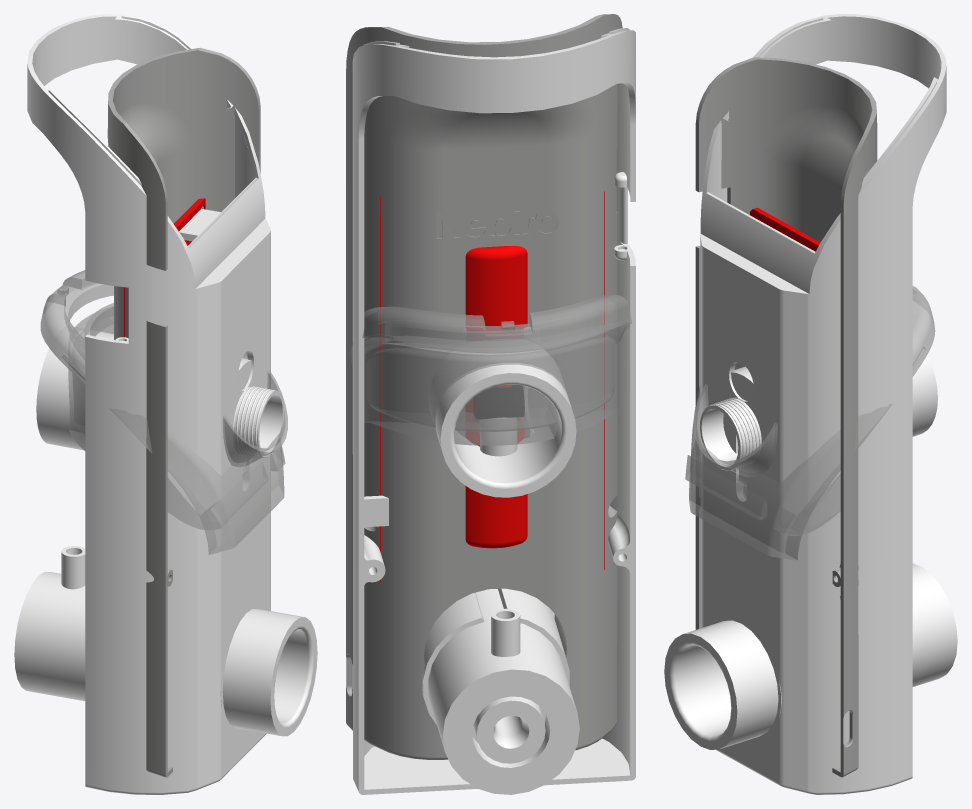
The model's file is NEBIRO.glb.
3 renders of one model, left to right at view 1: azimuth 30°, elevation 25°; view 2: azimuth 150°, elevation 25°; view 3: azimuth 270°, elevation 25°, orthographic. The views are drawn at different scales.
Visible parts, largest first — view 1: face body, back face side for hold, glass mesh cover with ring mask (2) (1), youtuber spirometer modified inlet (1), drug mesh (1); view 2: back face side for hold, face body, drug mesh (1), youtuber spirometer modified inlet (1), glass mesh cover with ring mask (2) (1), battery, pressure sensor, v8 v8 spiro p1 extension 1208, Body1:21; view 3: face body, back face side for hold, glass mesh cover with ring mask (2) (1), youtuber spirometer modified inlet (1), drug mesh (1), Body1:21.
Part boxes in pixels (x1,y1,x2,y2): face body: (14,14,317,794); back face side for hold: (107,47,260,777); glass mesh cover with ring mask (2) (1): (40,270,287,554); youtuber spirometer modified inlet (1): (36,326,284,472); drug mesh (1): (68,303,285,530); back face side for hold: (346,14,622,759); face body: (352,28,635,794); drug mesh (1): (364,317,618,445); youtuber spirometer modified inlet (1): (429,349,576,497); glass mesh cover with ring mask (2) (1): (350,294,631,366); battery: (465,245,527,548); pressure sensor: (473,385,524,419); v8 v8 spiro p1 extension 1208: (480,417,517,456); Body1:21: (380,191,604,581); face body: (664,14,957,794); back face side for hold: (695,57,877,777); glass mesh cover with ring mask (2) (1): (689,286,935,560); youtuber spirometer modified inlet (1): (700,333,937,484); drug mesh (1): (685,440,840,535); Body1:21: (750,207,820,251).
Bounding box in the file's own units: 2107 × 5957 × 2329.
